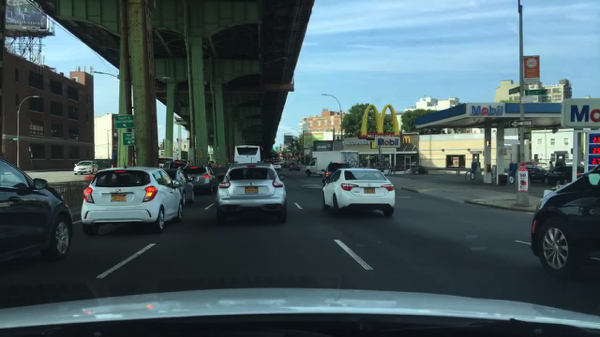bus: (233, 145, 260, 164)
car: (0, 153, 76, 274), (529, 162, 599, 281), (80, 165, 185, 236), (214, 163, 288, 225), (321, 168, 395, 218), (164, 168, 196, 204), (182, 165, 216, 193), (320, 162, 351, 188), (542, 165, 584, 184), (524, 164, 548, 182), (73, 160, 98, 176), (162, 160, 188, 172), (290, 161, 299, 172), (173, 158, 188, 164), (546, 161, 553, 171), (273, 162, 282, 169), (282, 161, 292, 167)
traffic sign: (113, 115, 135, 129), (507, 119, 533, 127), (506, 85, 521, 97), (123, 133, 136, 145), (523, 89, 548, 95), (518, 131, 530, 141)
truck: (306, 150, 360, 178)
